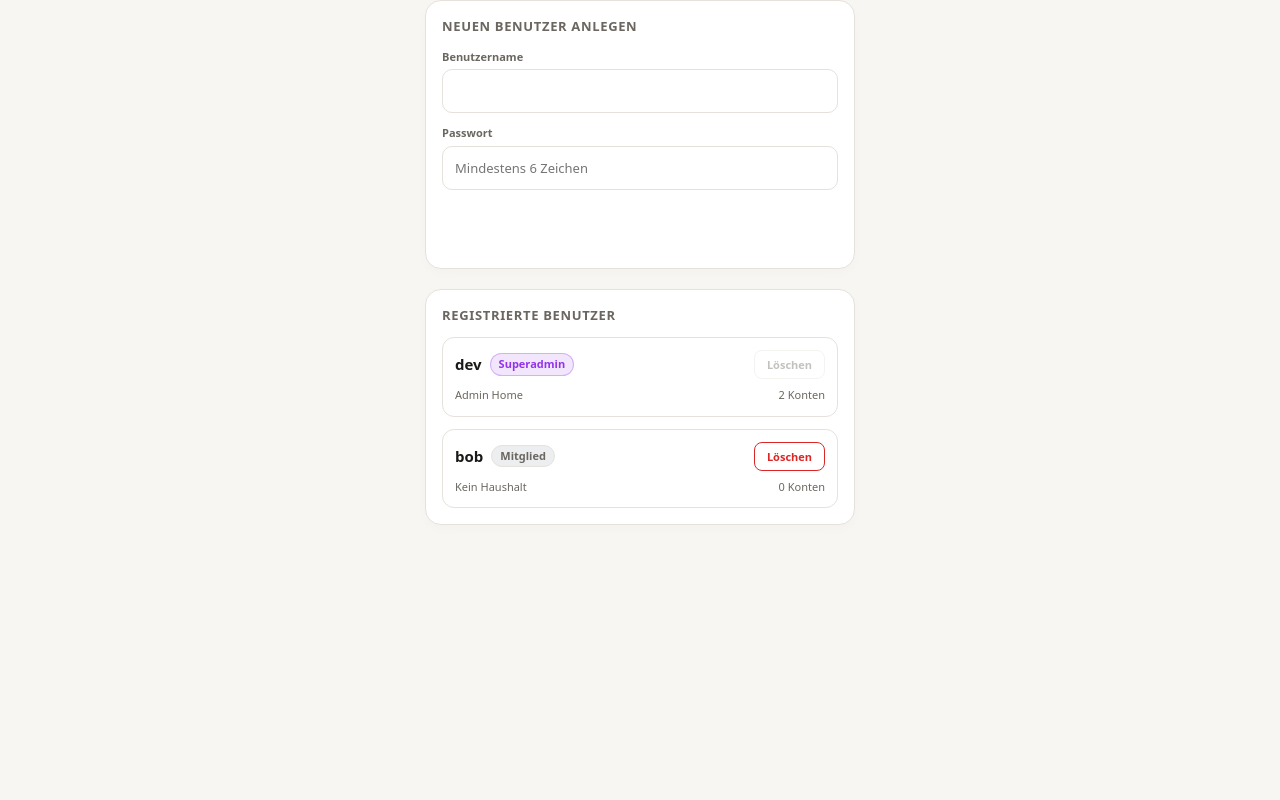
Scenario: AdminView Integration › shows error toast when deleteUserAction returns error
This screenshot has width=1280, height=800.
Click the button "Löschen" in the row of "Mitglied" at (789, 456), box x1=754 y1=442 x2=825 y2=470
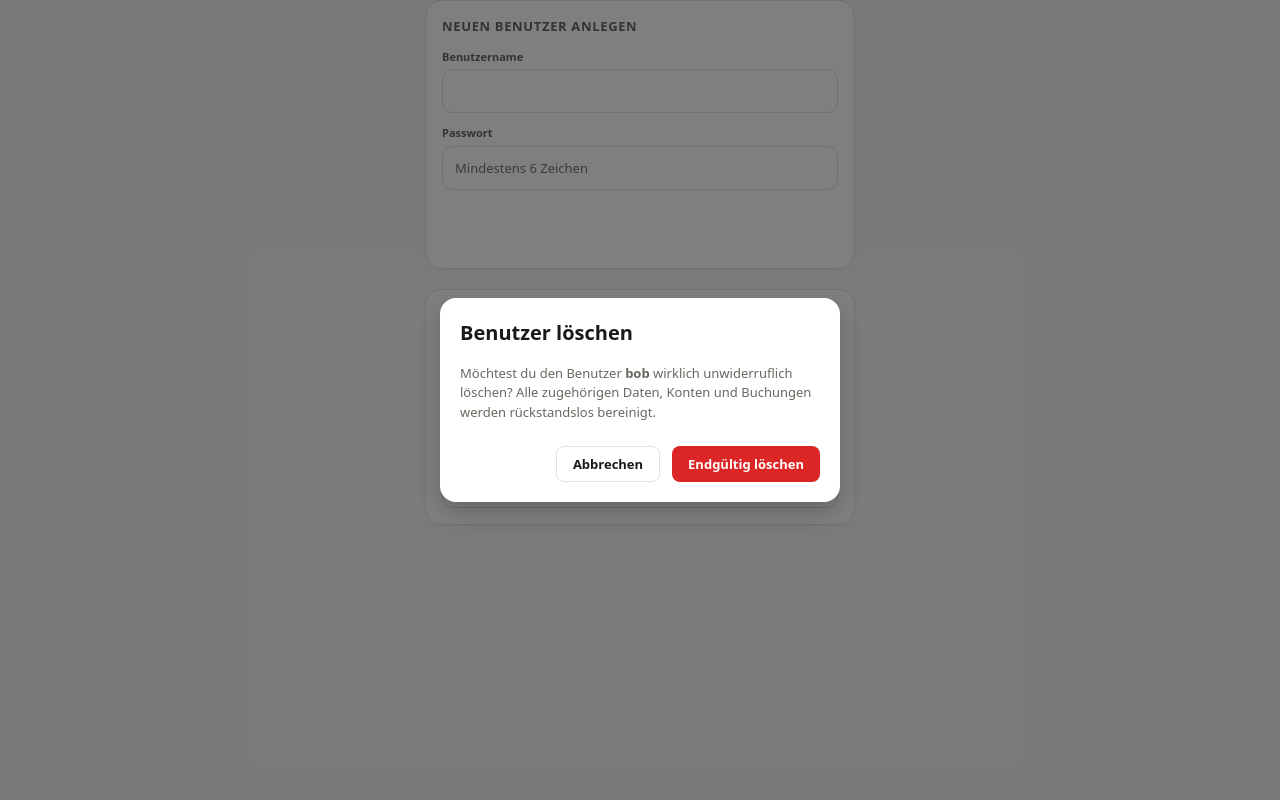
Click the button "Endgültig löschen" at (746, 464), box x1=672 y1=446 x2=820 y2=482
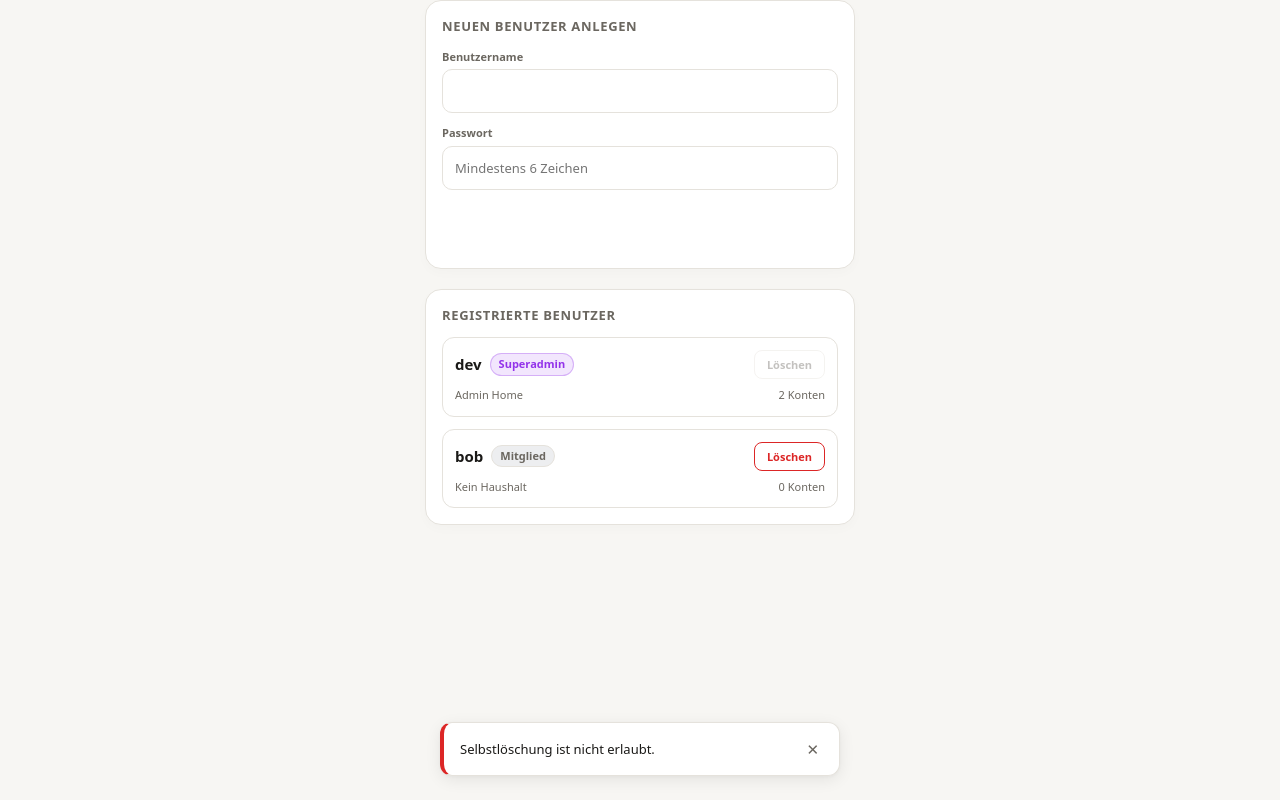
Result: the text "Selbstlöschung ist nicht erlaubt." is shown at x1=460 y1=740 x2=655 y2=758
